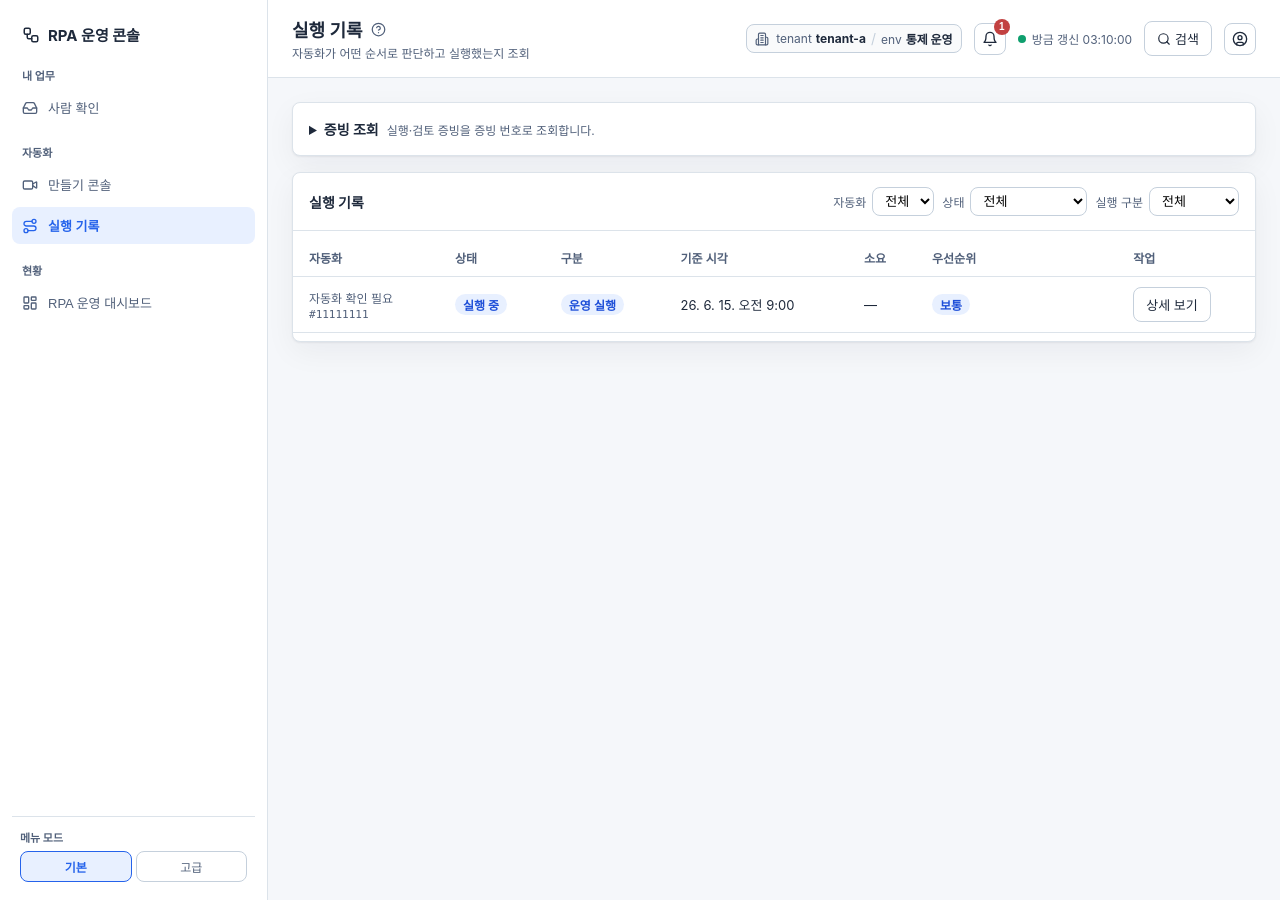
실행 상세 상태 패널 — 터미널 상태(F3) › 실행 상세 산출물: JSON rows 결과를 표로 표시하고 원문 JSON은 노출하지 않는다
Click the button with aria-label "실행 추적 상세 보기": (1172, 304) [1133, 287, 1211, 322]
(page scrolled)
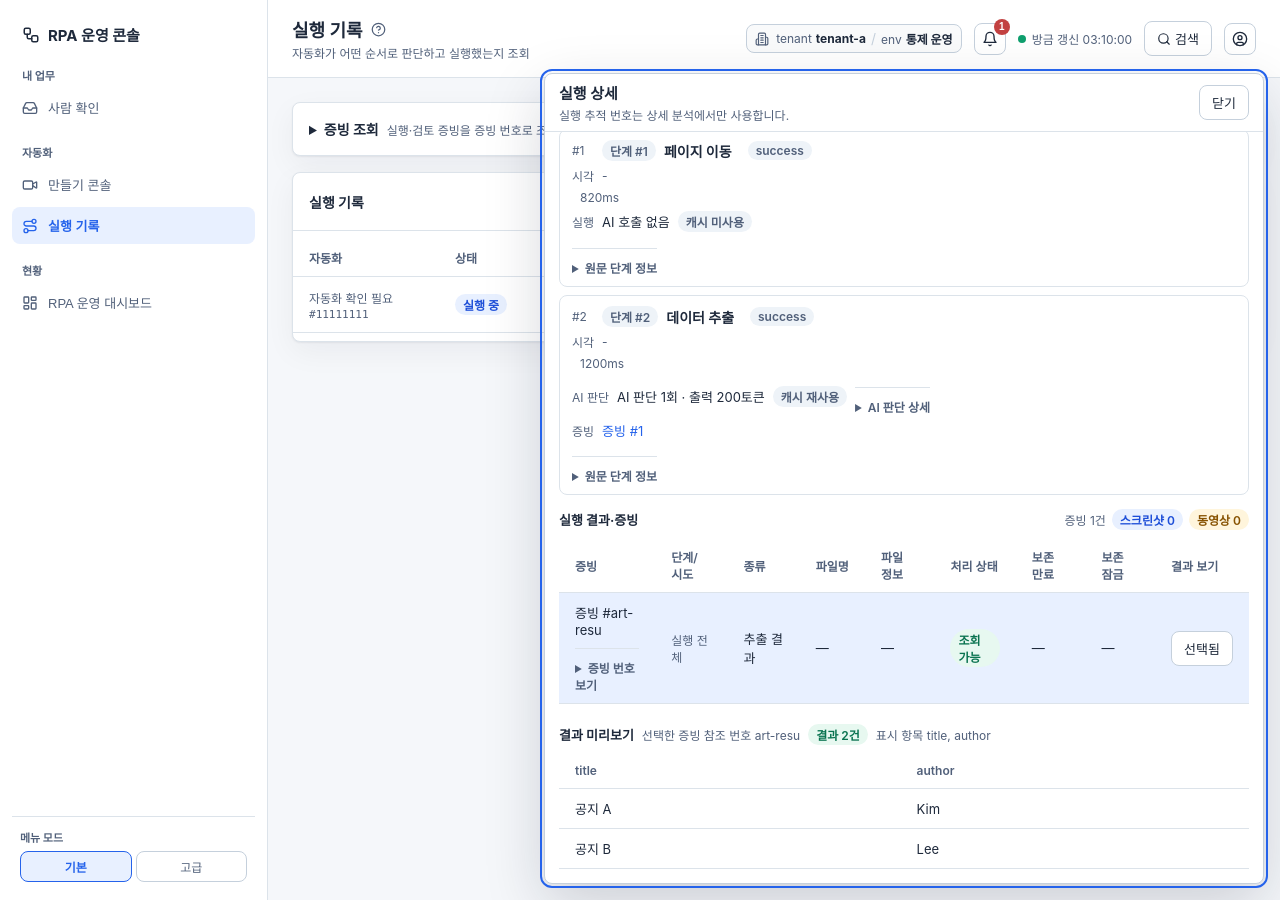
expect the text "실행 결과·증빙" is shown: met, box [559, 510, 638, 529]
expect the text "결과 2건" is shown: met, box [808, 724, 868, 745]
expect the text "표시 항목 title, author" is shown: met, box [876, 726, 991, 743]
